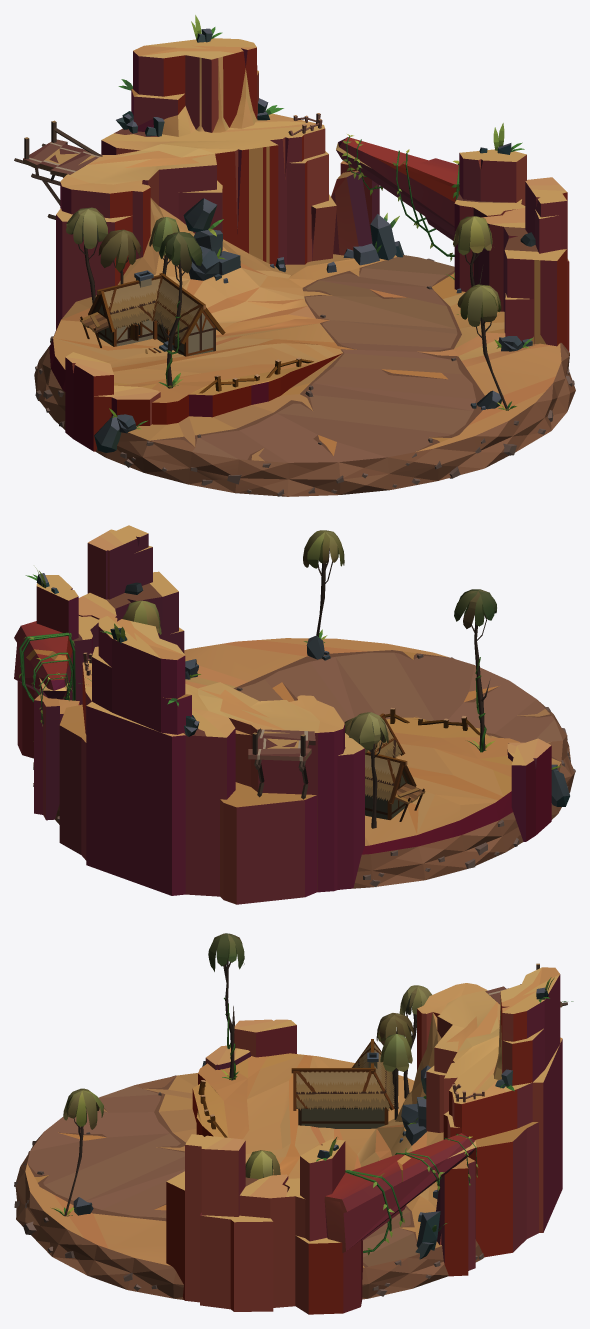
File: LowPolygon.FBX
3 views of the same model, one above another, from view 1: azimuth 30°, elevation 25°; view 2: azimuth 150°, elevation 25°; view 3: azimuth 270°, elevation 25° (orthographic). The views are drawn at different scales.
Parts seen in each view (by area): view 1: fff; view 2: fff; view 3: fff.
Boxes of the visible parts, x1,y1,x2,y2 form: fff: [14, 15, 575, 496]; fff: [14, 525, 575, 904]; fff: [14, 933, 573, 1314].
Size of the model in its own units: 425 by 214 by 450.
